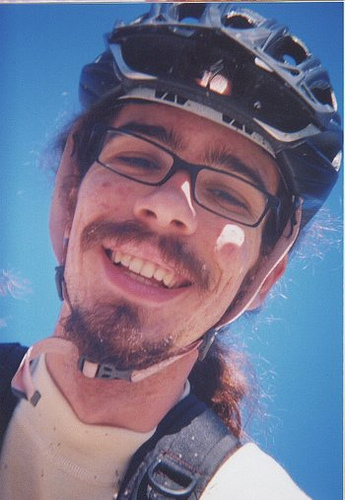helmet: (88, 27, 329, 158)
